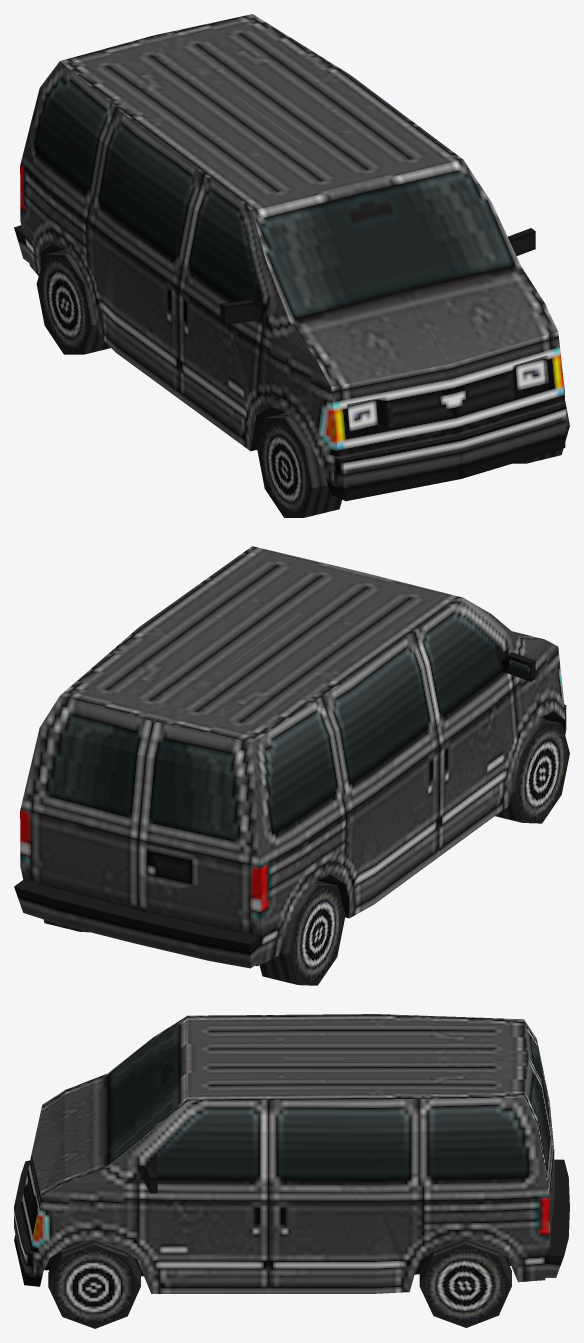
File: Auto5gris.fbx
3 renders of one model, top to bottom at view 1: azimuth 30°, elevation 25°; view 2: azimuth 150°, elevation 25°; view 3: azimuth 270°, elevation 25°, orthographic. The views are drawn at different scales.
Parts seen in each view (by area): view 1: Car4; view 2: Car4; view 3: Car4.
Part boxes in pixels (x1,y1,x2,y2): Car4: (14,14,569,517); Car4: (14,546,569,985); Car4: (14,1014,569,1328).
Bounding box in the file's own units: 340 × 274 × 630.
